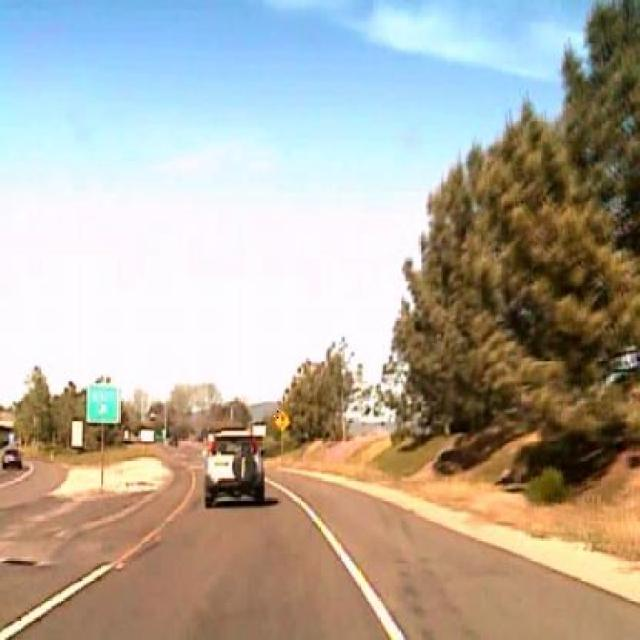signalAhead: (274, 409, 290, 432)
